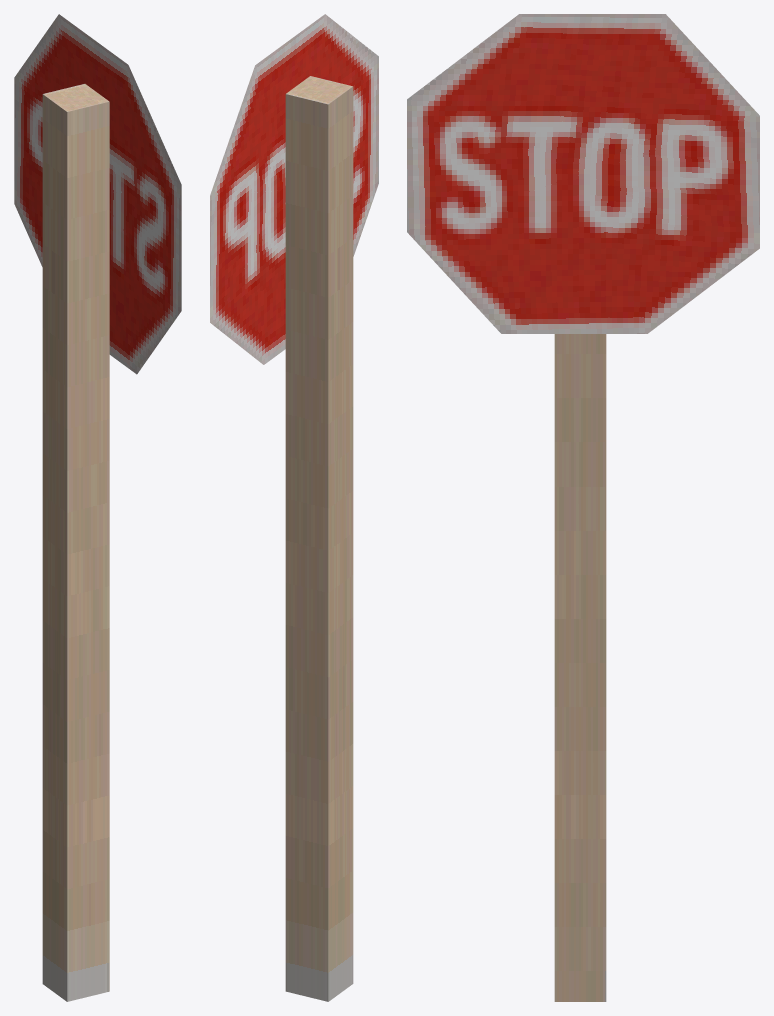
The model's file is Stop_Sign.glb.
3 renders of one model, left to right at view 1: azimuth 30°, elevation 25°; view 2: azimuth 150°, elevation 25°; view 3: azimuth 270°, elevation 25°, orthographic. The views are drawn at different scales.
Parts seen in each view (by area): view 1: Stop_Sign; view 2: Stop_Sign; view 3: Stop_Sign.
Boxes of the visible parts, bbox=[...] form: Stop_Sign: bbox=[14, 14, 181, 1001]; Stop_Sign: bbox=[210, 14, 378, 1001]; Stop_Sign: bbox=[407, 14, 759, 1001].
Bounding box in the file's own units: 0.1047 × 2.11 × 0.6823.
1 material, 1 textured.
